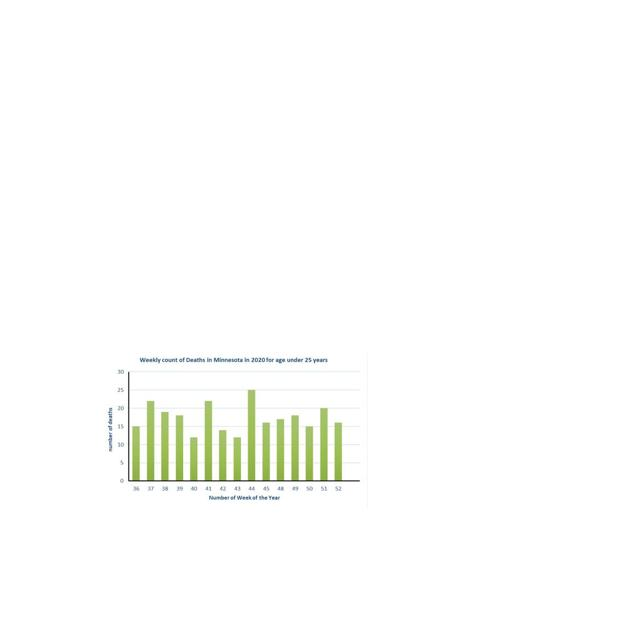Graph: (101, 352, 368, 508)
